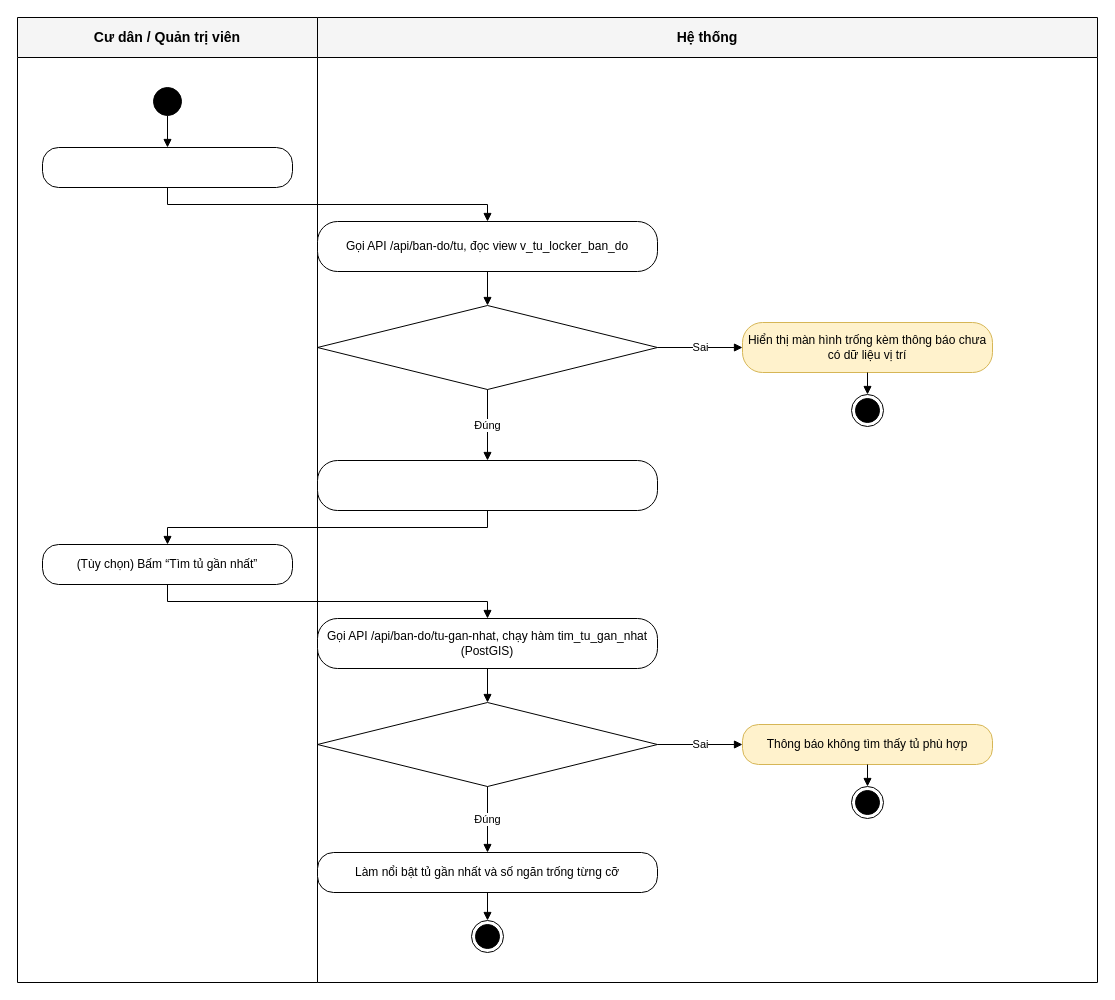
Image size: 1115x1000. Some labels were removed from this diagram. The centre of each missing label's shape, as x and y in pixels:
"Chọn màn hình “Vị trí tủ”" goes at (167,167).
"Có tủ đã có tọa độ?" goes at (487,347).
"Tìm được tủ phù hợp?" goes at (487,744).
"Vẽ sơ đồ tủ (CustomPaint) và bản đồ, hiển thị số ngăn trống S/M/L" goes at (487,485).
